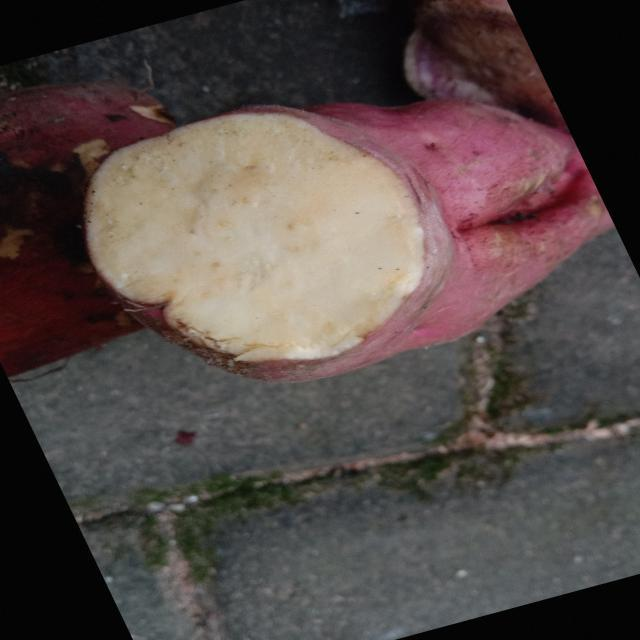Healthy Sweet Potato: (87, 112, 425, 361)
